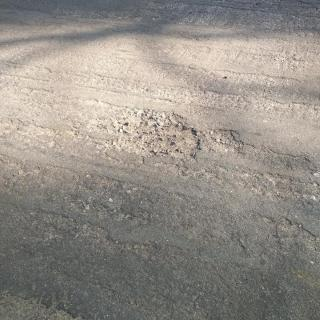pothole: (112, 116, 202, 160)
